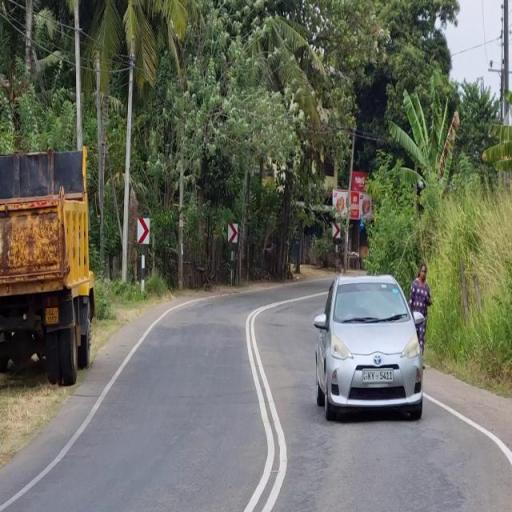double_white_line: (240, 297, 291, 510), (427, 391, 511, 465)
